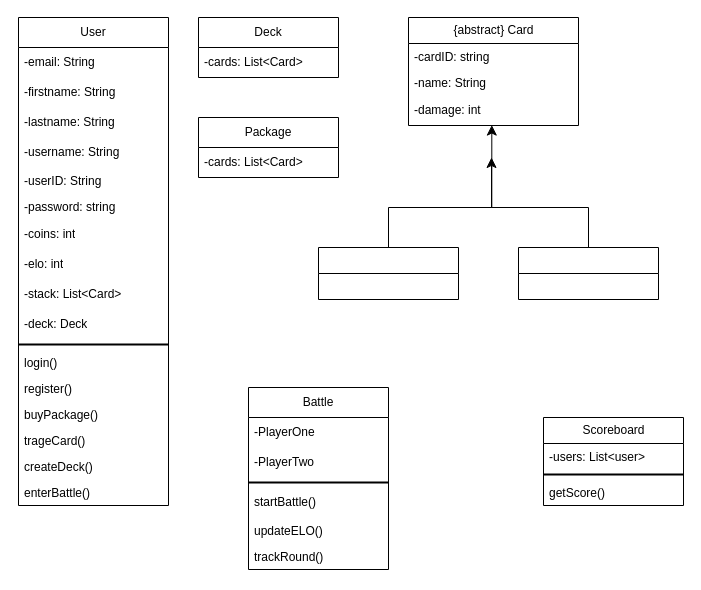
Image size: 701x590. Some labels were removed from this diagram. Each missing label, with the centre of its shape:
monsterCard: [388,273]
spellCard: [588,273]
